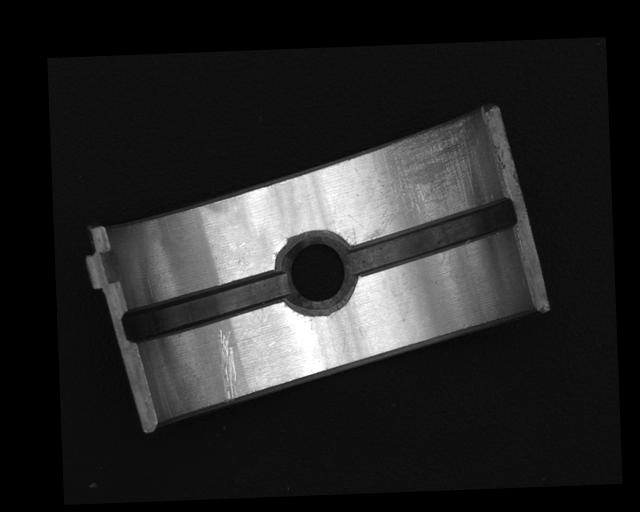gap: (344, 200, 518, 277), (119, 273, 293, 343)
hole: (274, 226, 359, 319)
nick: (219, 326, 237, 403)
scratch: (359, 115, 484, 241)
